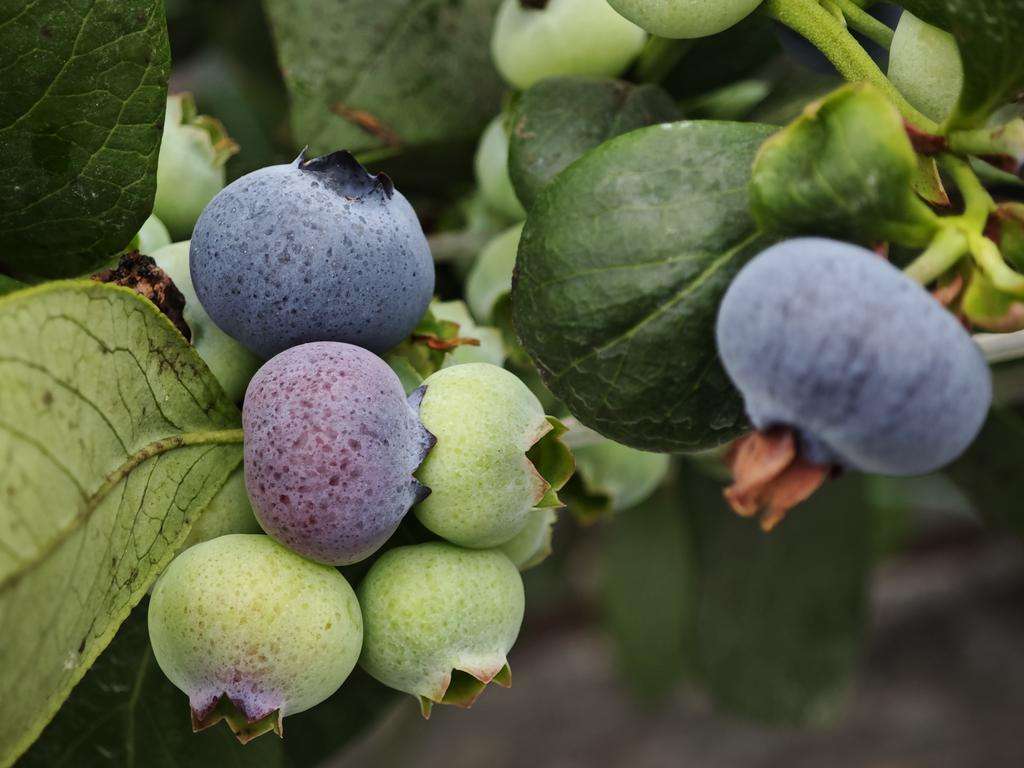RipeBlueBerry: (715, 229, 995, 487), (185, 153, 441, 353)
Semi-RipeBlueBerry: (235, 337, 434, 570)
UnripeBlueBerry: (145, 530, 367, 742)
